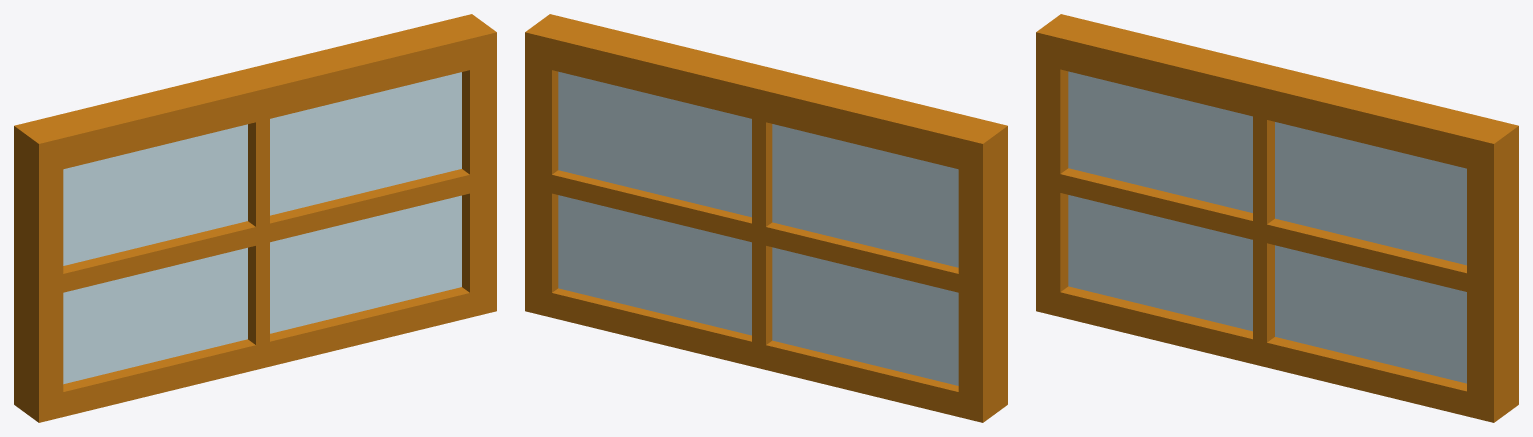
File: ventana2.obj
The picture shows the model from 3 angles, left to right: view 1: azimuth 30°, elevation 25°; view 2: azimuth 150°, elevation 25°; view 3: azimuth 330°, elevation 25°; orthographic projection.
Parts seen in each view (by area): view 1: pasted__pasted__pasted__pCube17 pasted__pasted__group38 pasted__; view 2: pasted__pasted__pasted__pCube17 pasted__pasted__group38 pasted__; view 3: pasted__pasted__pasted__pCube17 pasted__pasted__group38 pasted__.
Part boxes in pixels (x1,y1,x2,y2): pasted__pasted__pasted__pCube17 pasted__pasted__group38 pasted__: [14, 14, 496, 422]; pasted__pasted__pasted__pCube17 pasted__pasted__group38 pasted__: [525, 14, 1007, 422]; pasted__pasted__pasted__pCube17 pasted__pasted__group38 pasted__: [1036, 14, 1518, 422].
Bounding box in the file's own units: 1.95 × 1.14 × 0.1842.
1 material, 1 textured.
